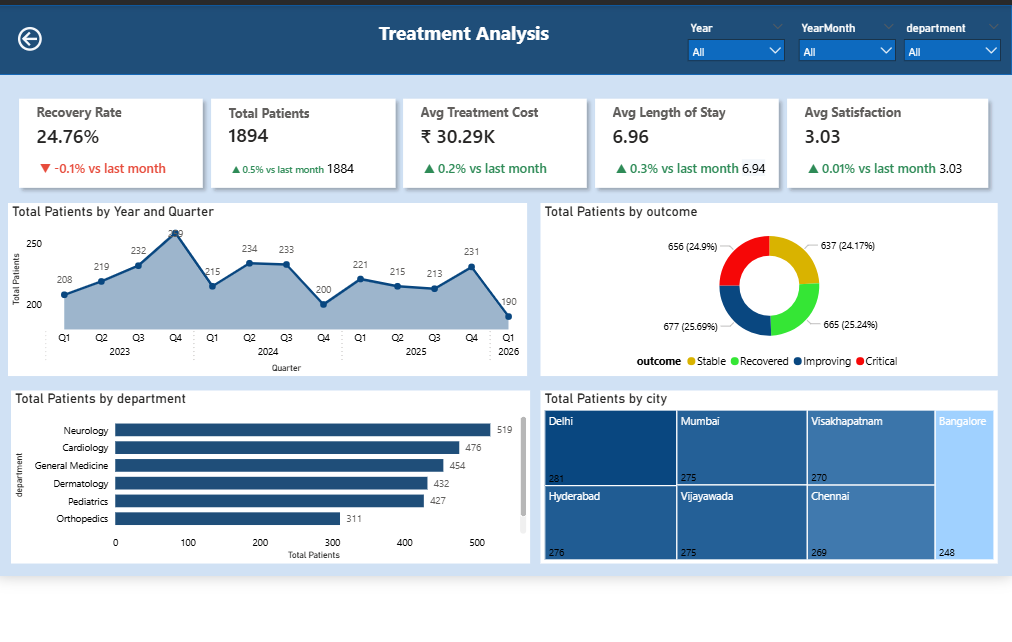

The dashboard page shown, as its layout file describes it:
{"tool":"powerbi","page":{"name":"Treatment Analysis","canvas":[1280,720],"ordinal":2},"visuals":[{"type":"shape","box":[2,0,1278,88],"z":0},{"type":"textbox","box":[302,14,574,44],"z":1000},{"type":"actionButton","box":[23.3,23.3,100,40],"z":2000},{"type":"cardVisual","fields":{"Data":["All Measures.Total Patients"]},"box":[242,88.3,290,170],"z":3000},{"type":"cardVisual","fields":{"Data":["All Measures.Avg Treatment Cost"]},"box":[484.4,87.9,289.5,170.8],"z":4000},{"type":"cardVisual","fields":{"Data":["All Measures.Avg Satisfaction"]},"box":[968.3,88.3,311.7,170],"z":5000},{"type":"cardVisual","fields":{"Data":["All Measures.Avg Length of Stay"]},"box":[726.4,87.9,289.5,170.8],"z":6000},{"type":"cardVisual","fields":{"Data":["All Measures.Recovery Rate"]},"box":[0,87.9,289.5,170.8],"z":7000},{"type":"slicer","fields":{"Values":["DateTable.Year"]},"box":[862,16,142,58],"z":8000},{"type":"slicer","fields":{"Values":["healthcare_doctors_clean.department"]},"box":[1134,16,142,58],"z":9000},{"type":"slicer","fields":{"Values":["DateTable.YearMonth"]},"box":[1002,16,142,58],"z":10000},{"type":"lineChart","fields":{"Category":["DateTable.Year","DateTable.Quarter"],"Y":["All Measures.Total Patients"]},"box":[16,250,654,218],"z":11000},{"type":"clusteredBarChart","fields":{"Y":["All Measures.Total Patients"],"Category":["healthcare_doctors_clean.department"]},"box":[18,486,654,218],"z":12000},{"type":"donutChart","fields":{"Y":["All Measures.Total Patients"],"Category":["healthcare_visits_clean.outcome"]},"box":[686,250,576,218],"z":13000},{"type":"treemap","fields":{"Values":["All Measures.Total Patients"],"Group":["healthcare_patients_clean.city"]},"box":[686,486,576,218],"z":14000}]}

Visuals, with their boxes on the page's 1280x720 design canvas (x1, y1, x2, y2). These are canvas units, not pixel positions in the 1012x642 screenshot, which may show the page scaled, cropped or inside an application window:
shape: (2, 0, 1280, 88)
textbox: (302, 14, 876, 58)
actionButton: (23, 23, 123, 63)
cardVisual - All Measures.Total Patients: (242, 88, 532, 258)
cardVisual - All Measures.Avg Treatment Cost: (484, 88, 774, 259)
cardVisual - All Measures.Avg Satisfaction: (968, 88, 1280, 258)
cardVisual - All Measures.Avg Length of Stay: (726, 88, 1016, 259)
cardVisual - All Measures.Recovery Rate: (0, 88, 290, 259)
slicer - DateTable.Year: (862, 16, 1004, 74)
slicer - healthcare_doctors_clean.department: (1134, 16, 1276, 74)
slicer - DateTable.YearMonth: (1002, 16, 1144, 74)
lineChart - DateTable.Year x DateTable.Quarter: (16, 250, 670, 468)
clusteredBarChart - All Measures.Total Patients x healthcare_doctors_clean.department: (18, 486, 672, 704)
donutChart - All Measures.Total Patients x healthcare_visits_clean.outcome: (686, 250, 1262, 468)
treemap - All Measures.Total Patients x healthcare_patients_clean.city: (686, 486, 1262, 704)
